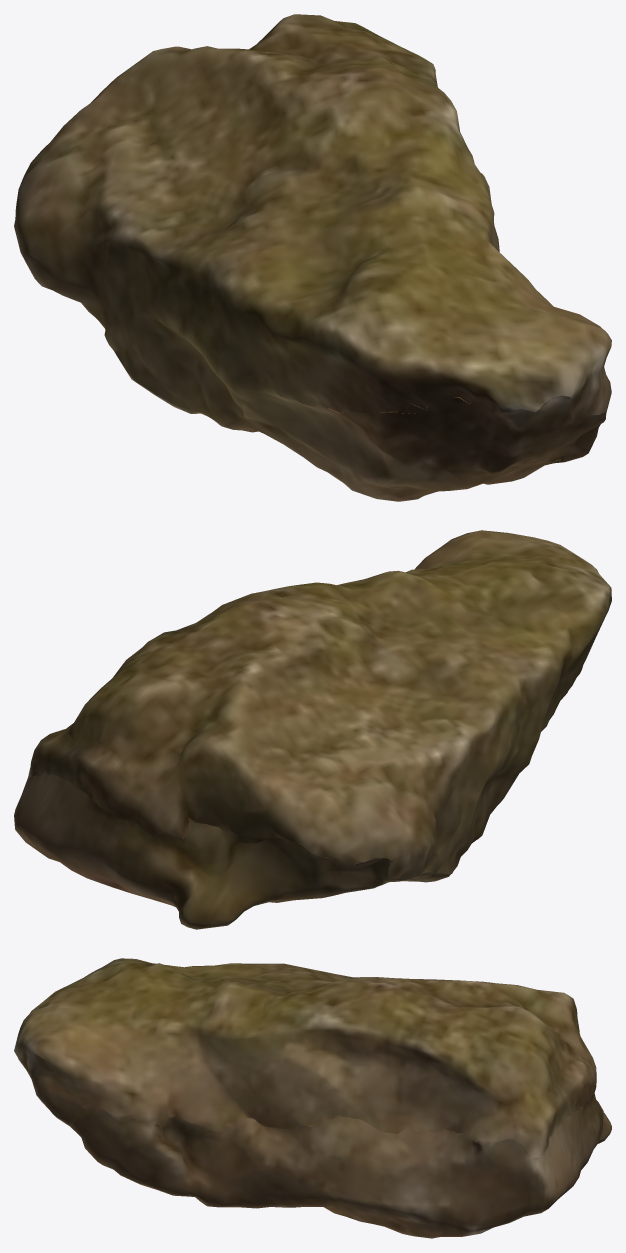
Rendered from rock_moss_set_01_d.gltf.lod.glb.
3 renders of one model, top to bottom at view 1: azimuth 30°, elevation 25°; view 2: azimuth 150°, elevation 25°; view 3: azimuth 270°, elevation 25°, orthographic. The views are drawn at different scales.
Parts seen in each view (by area): view 1: rock_moss_set_01_rock05; view 2: rock_moss_set_01_rock05; view 3: rock_moss_set_01_rock05.
Boxes of the visible parts, x1,y1,x2,y2 form: rock_moss_set_01_rock05: [14, 14, 611, 501]; rock_moss_set_01_rock05: [14, 530, 611, 929]; rock_moss_set_01_rock05: [14, 958, 611, 1238].
Size of the model in its own units: 1.82 by 1.21 by 3.
1 material, 1 textured.
